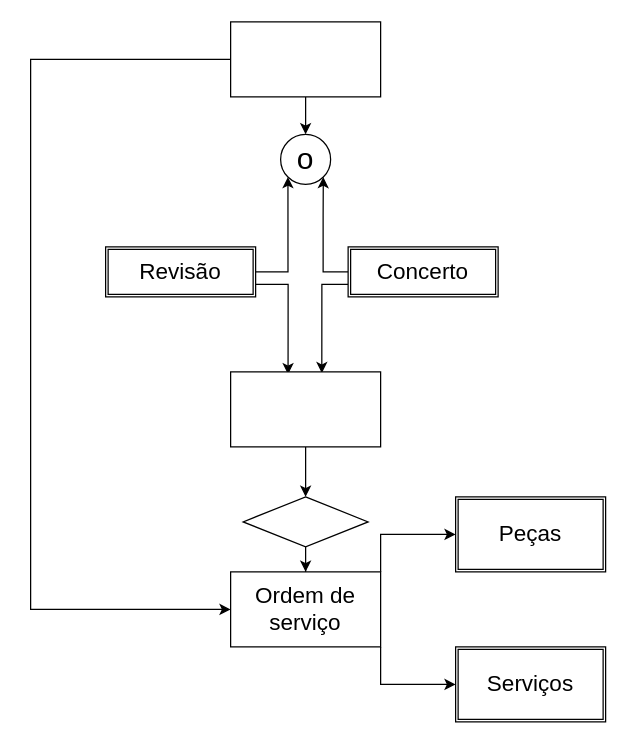
The diagram is 628 pixels wide and 744 high, and some of its shapes have lost their labels. The box of each missing label's shape, as (x1, y1, x2, y2) in pixels:
Avaliar: (242, 496, 368, 547)
Cliente: (229, 21, 381, 97)
Mecanicos: (229, 371, 381, 447)
